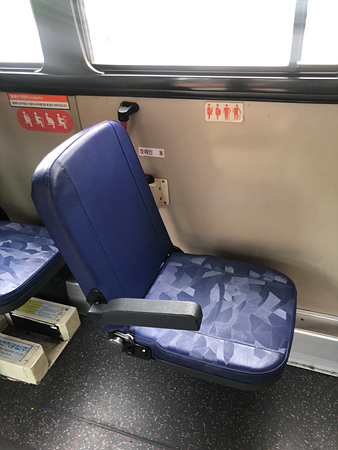seat: (40, 121, 289, 379)
